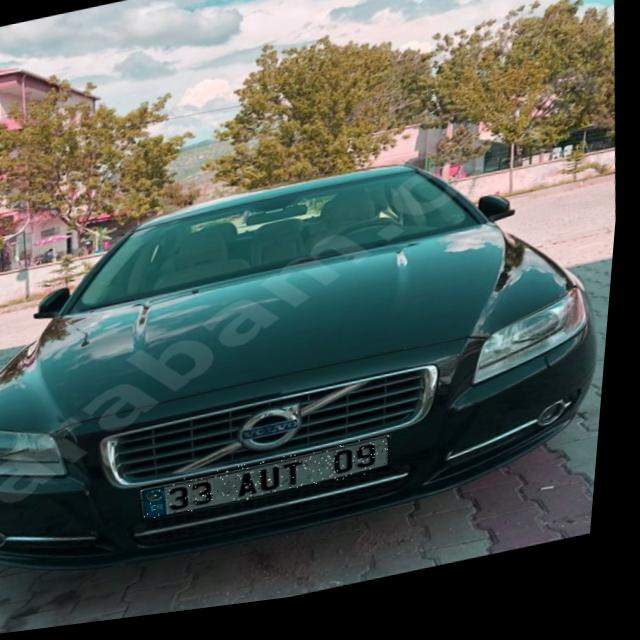license_plate: (147, 445, 401, 526)
